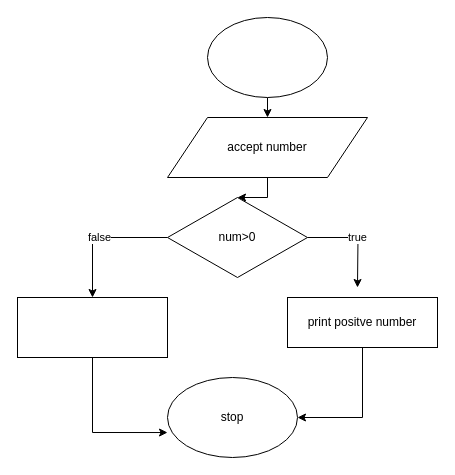
This 455x475 diagram has some shape labels left out. Here are the shapes that lost their labels. From the top down, the centre of each, then its label:
At (267,57): "start".
At (92,327): "print negative number".
